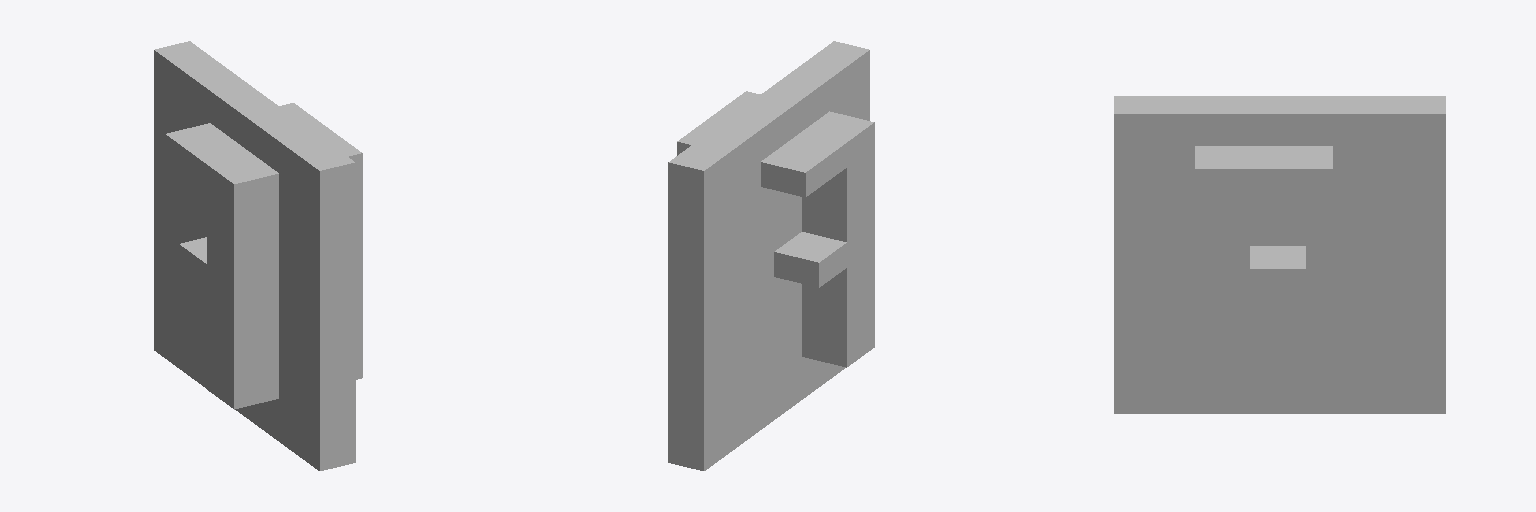
File: letter_F.obj
3 renders of one model, left to right at view 1: azimuth 30°, elevation 25°; view 2: azimuth 150°, elevation 25°; view 3: azimuth 270°, elevation 25°, orthographic.
Parts seen in each view (by area): view 1: window, Text; view 2: window, Text; view 3: window, Text.
Part boxes in pixels (x1,y1,x2,y2): window: (154, 41, 355, 470); Text: (165, 103, 362, 409); window: (668, 41, 869, 470); Text: (677, 91, 874, 367); window: (1114, 96, 1445, 413); Text: (1195, 146, 1332, 393).
Bounding box in the file's own units: 0.894 × 2 × 2.